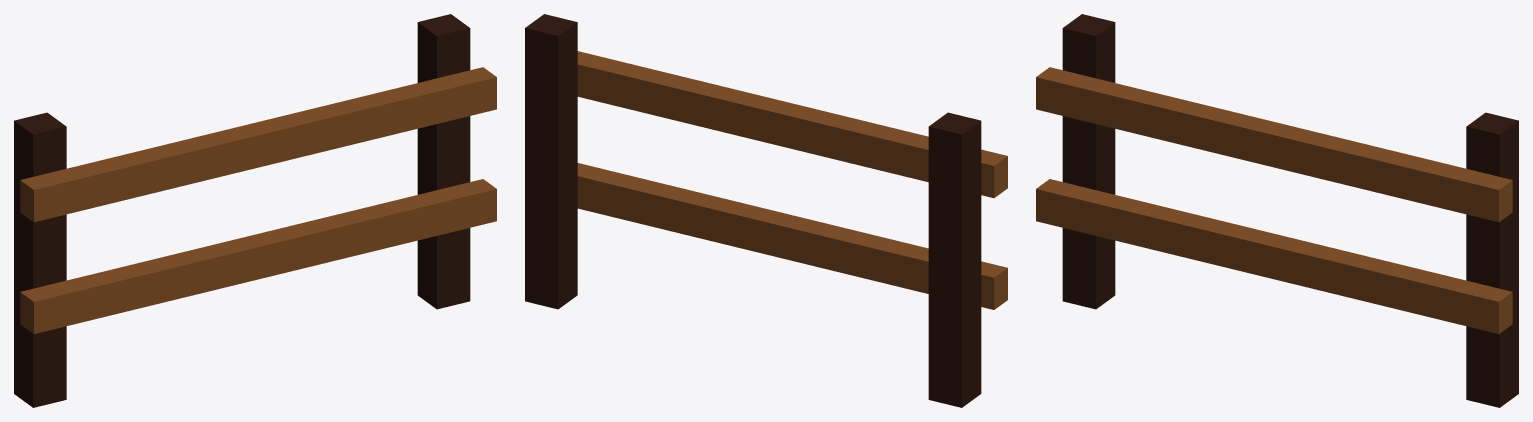
Rendered from Extra_Fence_01.fbx.
3 renders of one model, left to right at view 1: azimuth 30°, elevation 25°; view 2: azimuth 150°, elevation 25°; view 3: azimuth 330°, elevation 25°, orthographic.
Parts seen in each view (by area): view 1: Extra_Fence_01_Mesh; view 2: Extra_Fence_01_Mesh; view 3: Extra_Fence_01_Mesh.
Boxes of the visible parts, x1=… form: Extra_Fence_01_Mesh: x1=14, y1=14, x2=496, y2=407; Extra_Fence_01_Mesh: x1=525, y1=14, x2=1007, y2=407; Extra_Fence_01_Mesh: x1=1036, y1=14, x2=1518, y2=407.
Bounding box in the file's own units: 1.95 × 1.1 × 0.24.
1 material, 1 textured.
